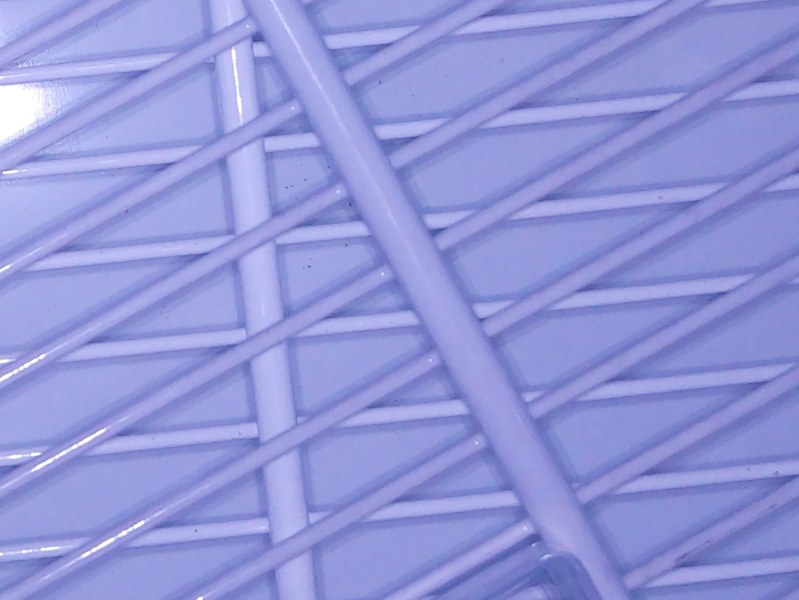plate: (470, 548, 607, 600)
